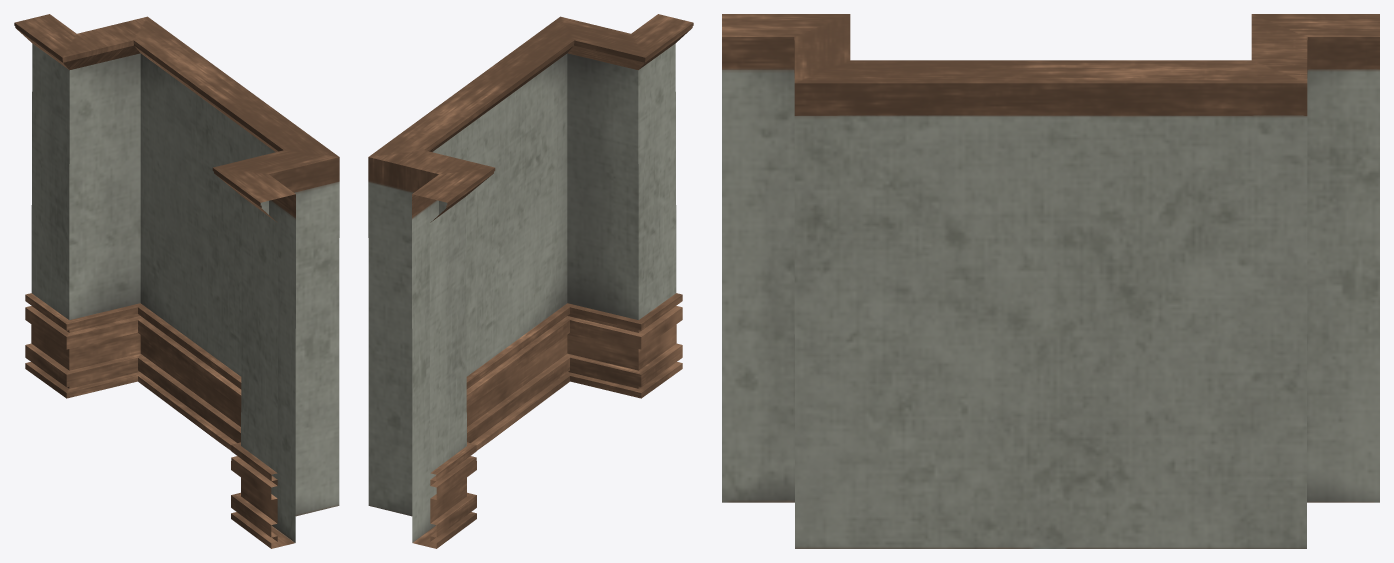
Rendered from wall_corner_double.fbx.
3 renders of one model, left to right at view 1: azimuth 30°, elevation 25°; view 2: azimuth 150°, elevation 25°; view 3: azimuth 270°, elevation 25°, orthographic. The views are drawn at different scales.
Parts seen in each view (by area): view 1: wall_corner_double; view 2: wall_corner_double; view 3: wall_corner_double.
Part boxes in pixels (box(x1,y1,x2,y2)): wall_corner_double: box(14, 14, 339, 548); wall_corner_double: box(368, 14, 693, 548); wall_corner_double: box(722, 14, 1379, 548).
Size of the model in its own units: 89.8 by 282 by 361.
